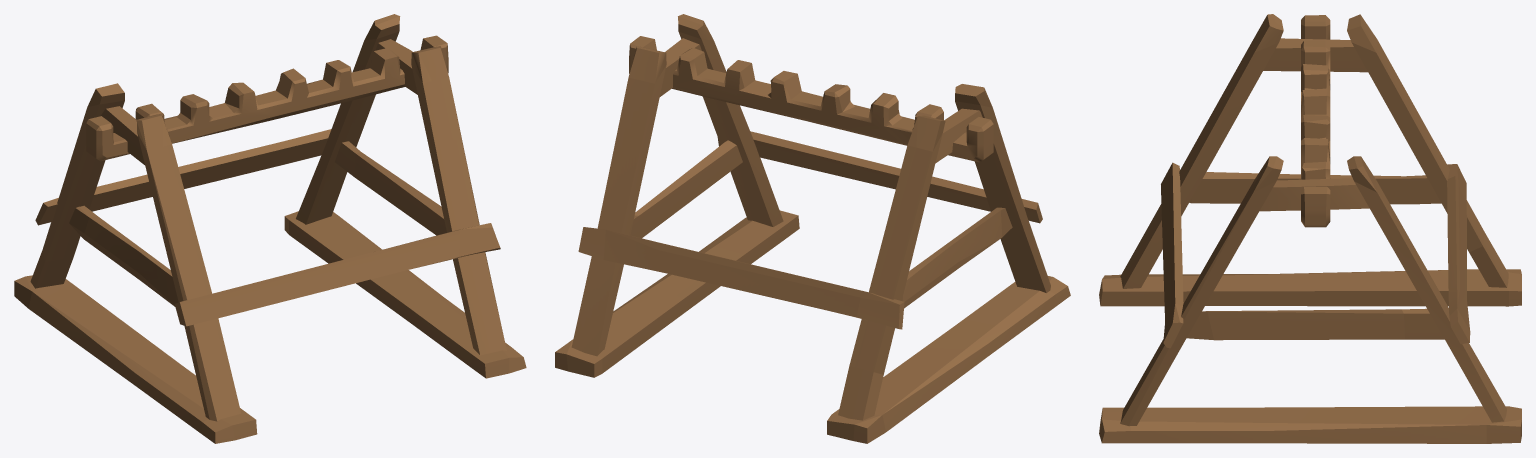
Rendered from WeaponRack_C.fbx.
3 views of the same model, side by side, from view 1: azimuth 30°, elevation 25°; view 2: azimuth 150°, elevation 25°; view 3: azimuth 270°, elevation 25° (orthographic). The views are drawn at different scales.
Parts seen in each view (by area): view 1: WeaponRack_C; view 2: WeaponRack_C; view 3: WeaponRack_C.
Boxes of the visible parts, x1,y1,x2,y2 form: WeaponRack_C: (14, 14, 526, 443); WeaponRack_C: (555, 14, 1070, 443); WeaponRack_C: (1099, 14, 1521, 443).
Size of the model in its own units: 147 by 105 by 147.
